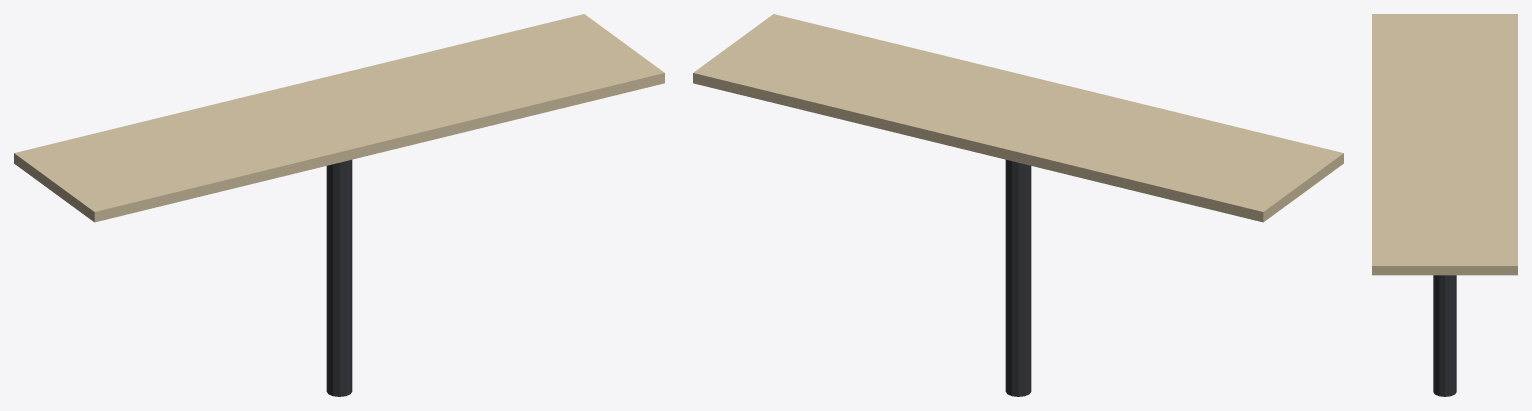
Rendered from banquette_90.glb.
The picture shows the model from 3 angles, left to right: view 1: azimuth 30°, elevation 25°; view 2: azimuth 150°, elevation 25°; view 3: azimuth 270°, elevation 25°; orthographic projection. The views are drawn at different scales.
Size of the model in its own units: 2.29 by 1.07 by 0.5588.
